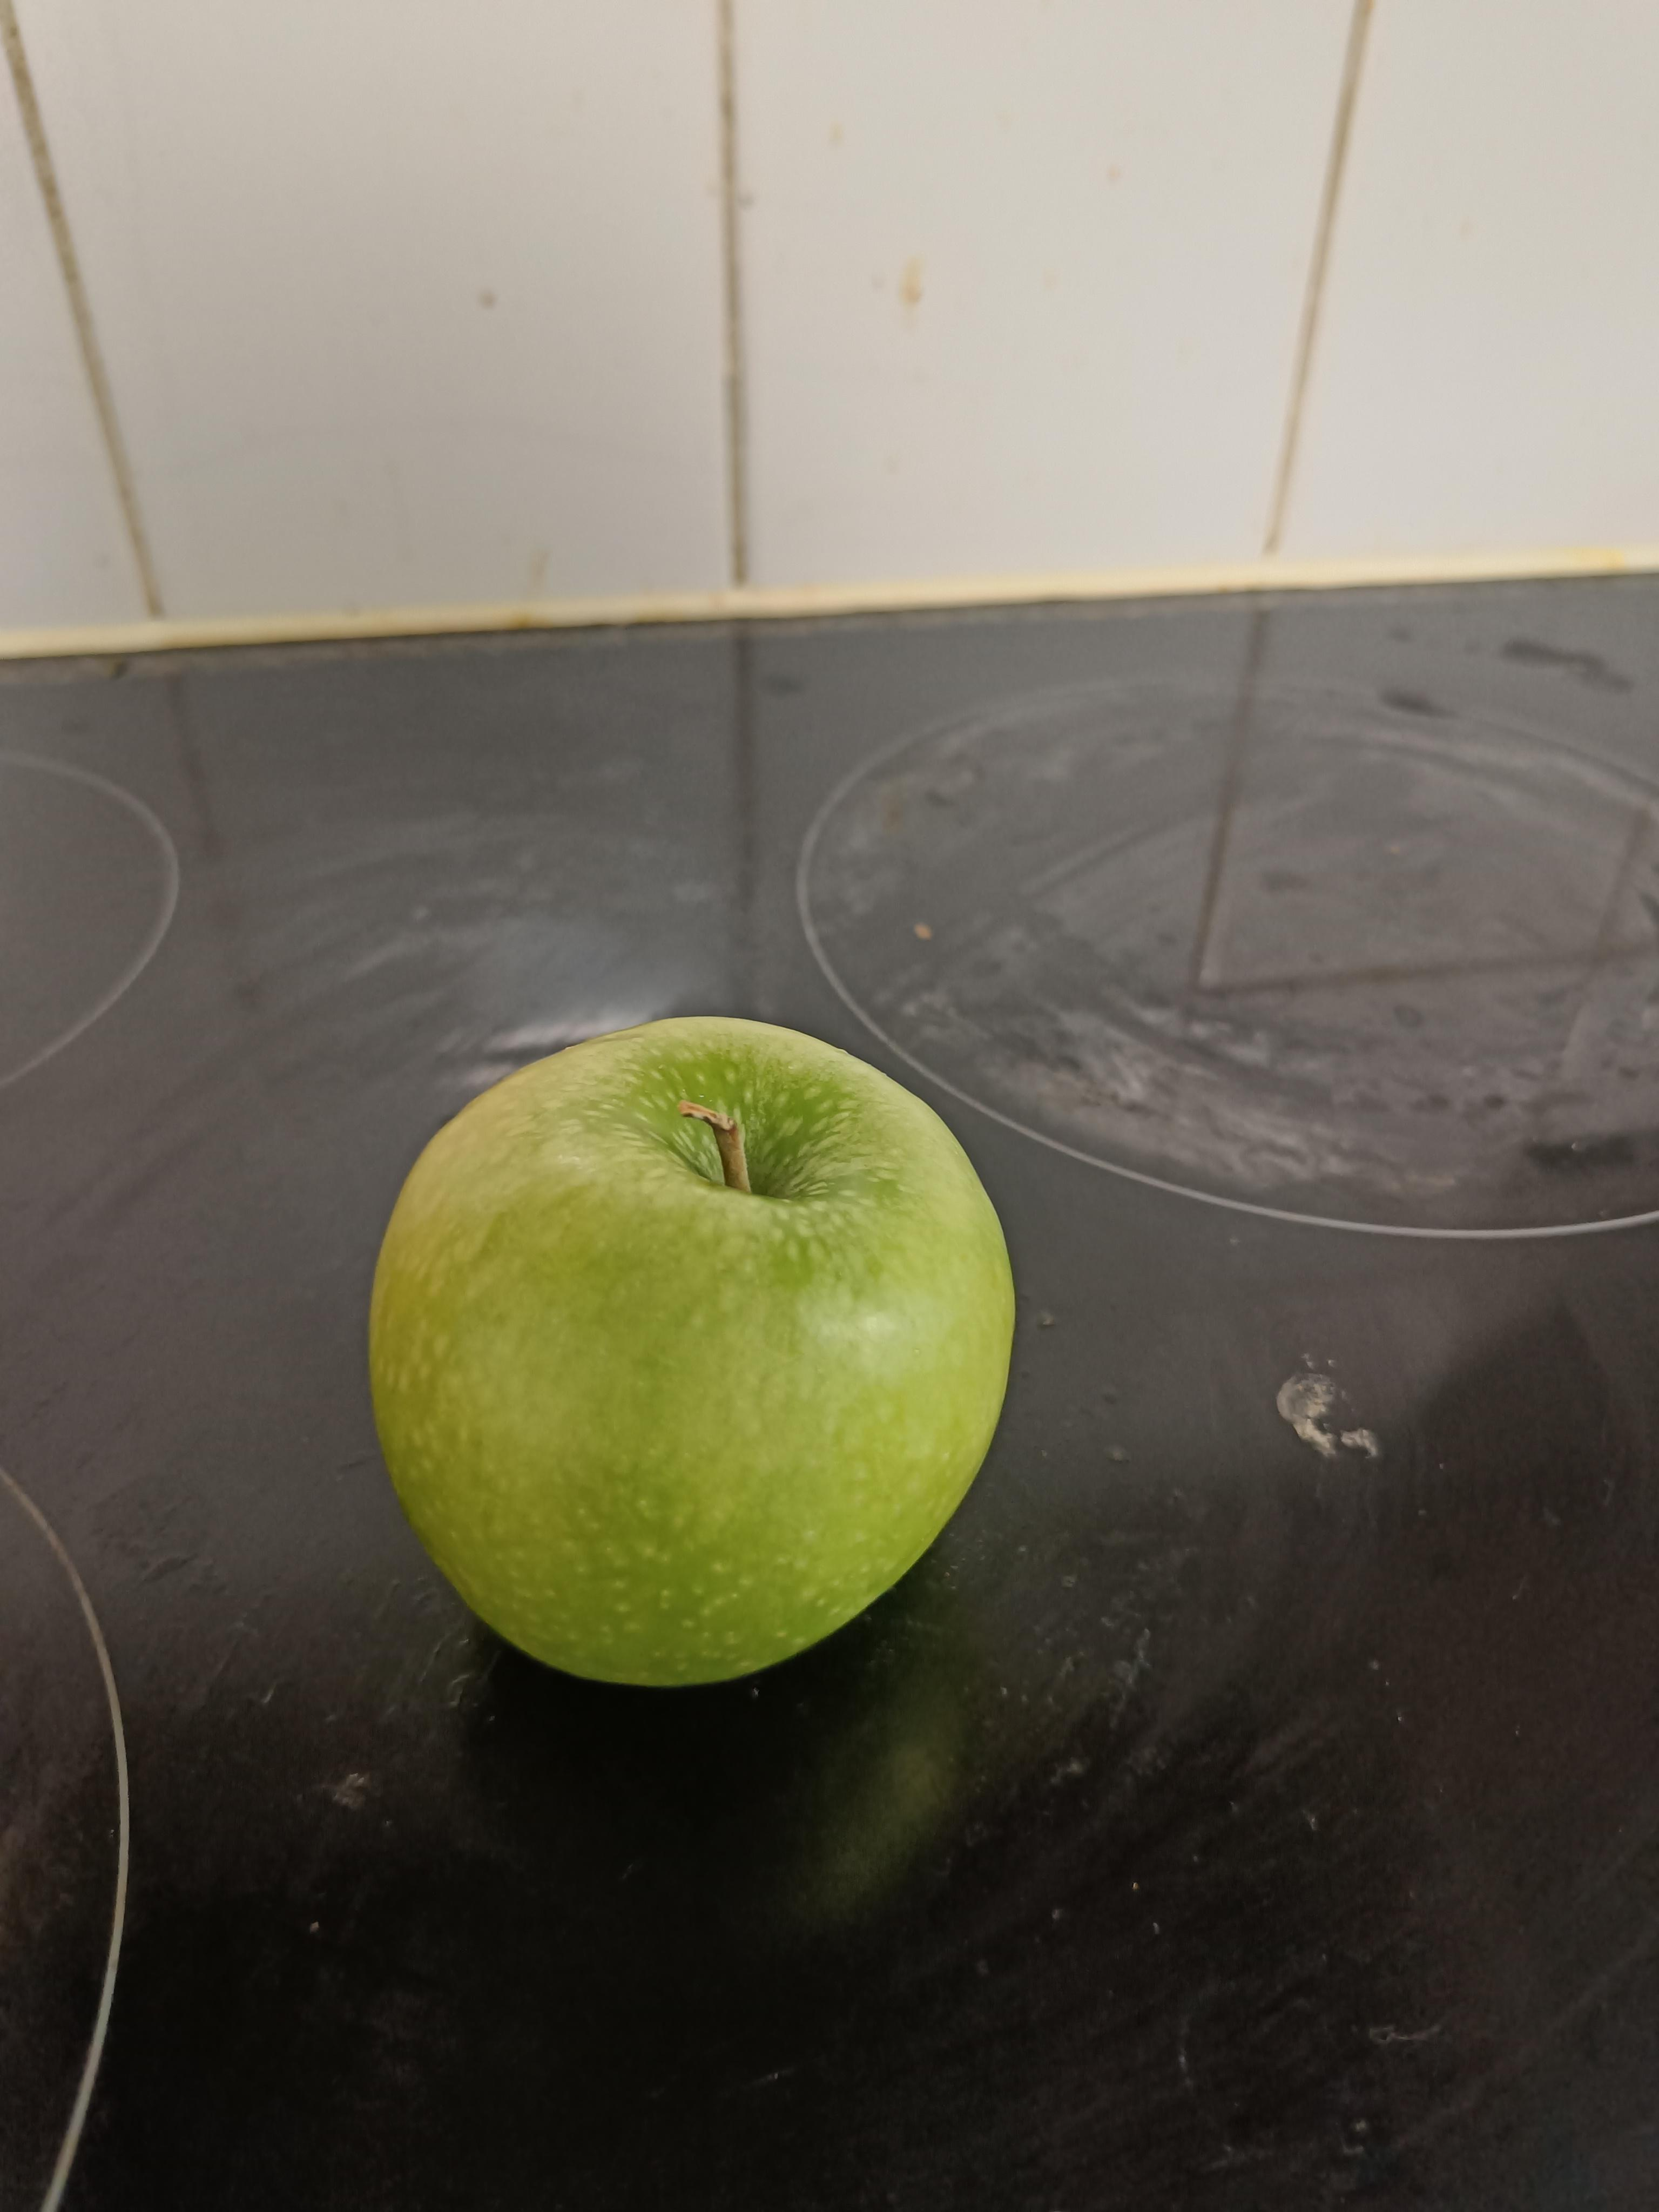Apple: (368, 996, 1046, 1721)
